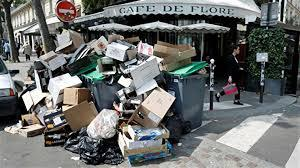Container: (168, 58, 204, 132)
Garbage: (11, 122, 76, 163), (42, 133, 112, 165), (94, 48, 156, 80), (83, 105, 124, 140)
